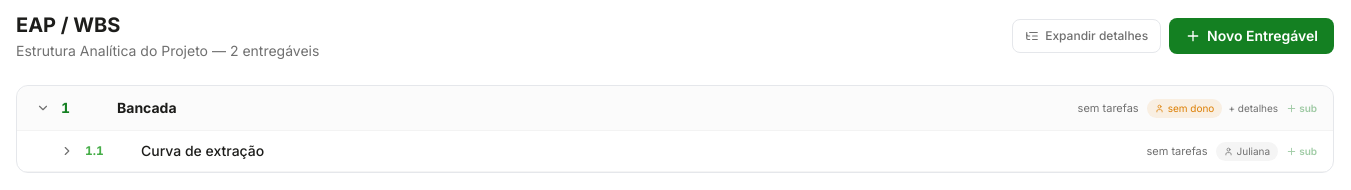
Test: WbsClient — detalhes do pacote de trabalho › should collapse children from the chevron, not from the title
Click the button named "Expandir sub-entregáveis".
click(43, 108)  # box [33,98,53,118]
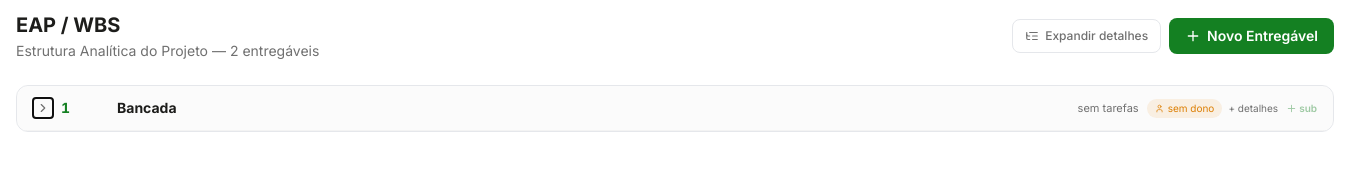
Expected: the button "Curva de extração" is gone
